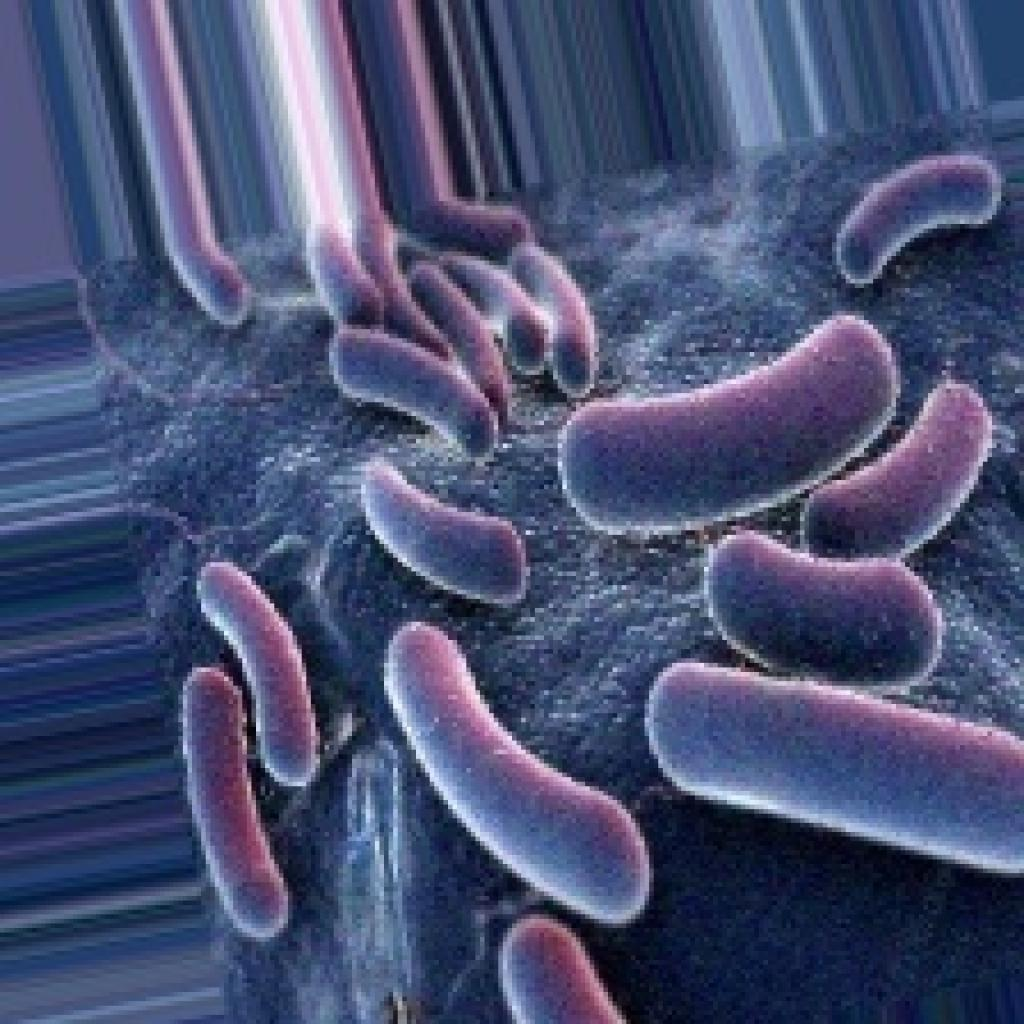Rodbacteria: (68, 114, 1020, 1020)
